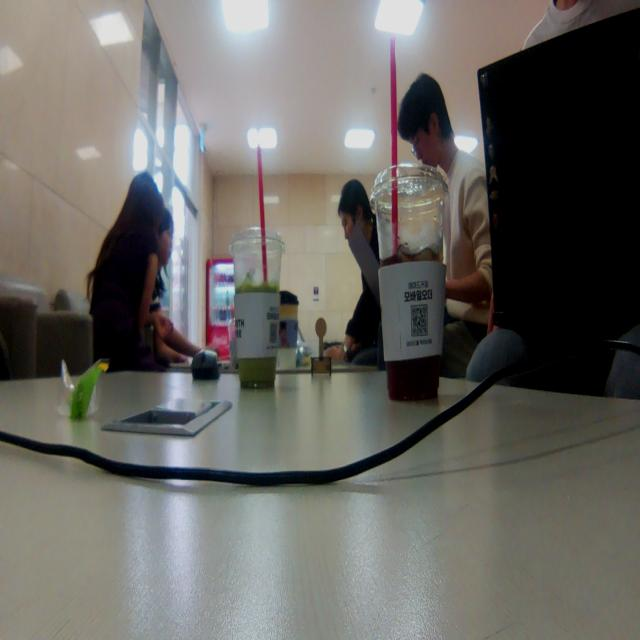target: (310, 316, 332, 376)
